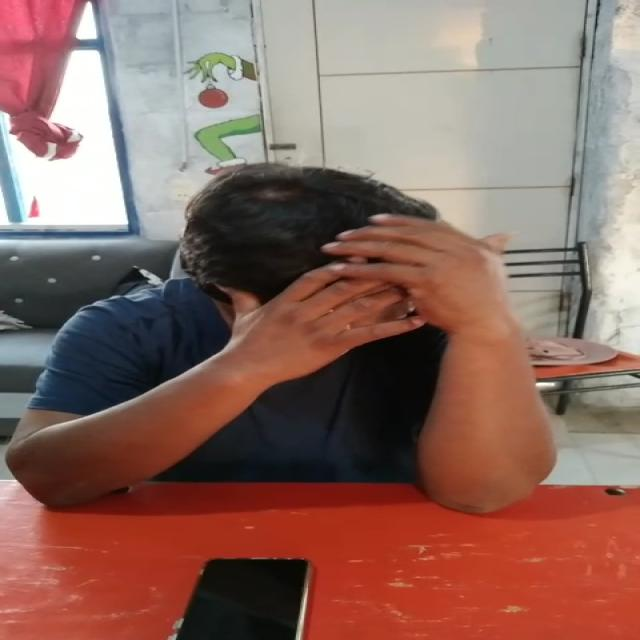7_mano_rostro: (298, 220, 517, 440)
